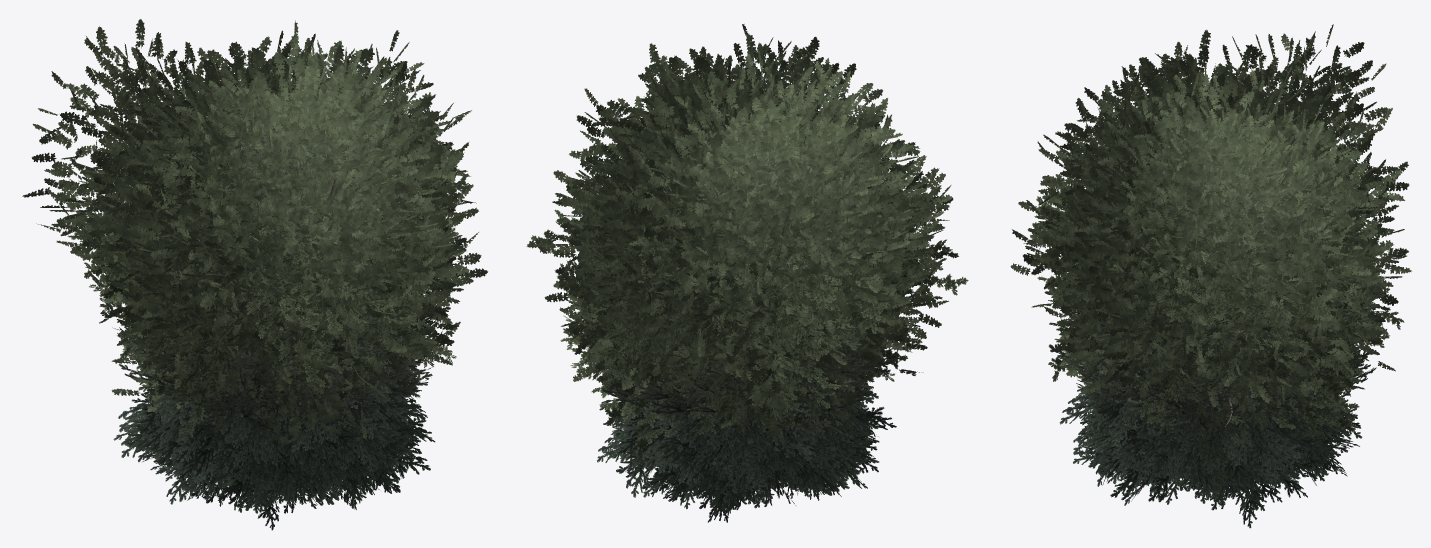
File: veg.street-trees.glb
3 views of the same model, side by side, from view 1: azimuth 30°, elevation 25°; view 2: azimuth 150°, elevation 25°; view 3: azimuth 270°, elevation 25° (orthographic). The views are drawn at different scales.
Parts seen in each view (by area): view 1: tree.maple.1:lod0, tree.maple.2:lod0, tree.maple.4:lod0, tree.oak.3:lod0, tree.maple.3:lod0, tree.spruce.2:lod0, tree.maple.7:lod0, tree.maple.6:lod0, tree.maple.8:lod0, tree.maple.5:lod0, tree.spruce.3:lod0, tree.spruce.6:lod0 (+15 smaller); view 2: tree.maple.1:lod0, tree.maple.7:lod0, tree.maple.2:lod0, tree.maple.8:lod0, tree.maple.6:lod0, tree.spruce.2:lod0, tree.oak.3:lod0, tree.maple.3:lod0, tree.spruce.6:lod0, tree.maple.5:lod0, tree.maple.4:lod0, tree.oak.1:lod0 (+16 smaller); view 3: tree.maple.1:lod0, tree.maple.5:lod0, tree.maple.2:lod0, tree.maple.4:lod0, tree.maple.7:lod0, tree.maple.3:lod0, tree.spruce.2:lod0, tree.maple.8:lod0, tree.oak.3:lod0, tree.ash.2:lod0, tree.spruce.1:lod0, tree.spruce.3:lod0 (+17 smaller).
Part boxes in pixels (bbox=[...]): tree.maple.1:lod0: bbox=[22, 19, 406, 404]; tree.maple.2:lod0: bbox=[105, 42, 473, 423]; tree.maple.4:lod0: bbox=[115, 68, 476, 437]; tree.oak.3:lod0: bbox=[69, 99, 469, 437]; tree.maple.3:lod0: bbox=[109, 69, 487, 403]; tree.spruce.2:lod0: bbox=[113, 111, 435, 530]; tree.maple.7:lod0: bbox=[91, 30, 478, 414]; tree.maple.6:lod0: bbox=[90, 62, 454, 418]; tree.maple.8:lod0: bbox=[85, 47, 465, 400]; tree.maple.5:lod0: bbox=[152, 58, 470, 445]; tree.spruce.3:lod0: bbox=[124, 131, 430, 508]; tree.spruce.6:lod0: bbox=[118, 148, 428, 513]; tree.maple.1:lod0: bbox=[564, 54, 953, 427]; tree.maple.7:lod0: bbox=[553, 61, 901, 434]; tree.maple.2:lod0: bbox=[566, 37, 919, 435]; tree.maple.8:lod0: bbox=[568, 98, 907, 451]; tree.maple.6:lod0: bbox=[619, 129, 949, 388]; tree.spruce.2:lod0: bbox=[597, 119, 896, 522]; tree.oak.3:lod0: bbox=[560, 104, 968, 405]; tree.maple.3:lod0: bbox=[595, 78, 923, 398]; tree.spruce.6:lod0: bbox=[610, 145, 873, 515]; tree.maple.5:lod0: bbox=[526, 118, 860, 441]; tree.maple.4:lod0: bbox=[594, 24, 920, 385]; tree.oak.1:lod0: bbox=[563, 153, 890, 459]; tree.maple.1:lod0: bbox=[1041, 24, 1411, 380]; tree.maple.5:lod0: bbox=[1044, 134, 1382, 428]; tree.maple.2:lod0: bbox=[1041, 41, 1385, 431]; tree.maple.4:lod0: bbox=[1018, 73, 1300, 431]; tree.maple.7:lod0: bbox=[1070, 29, 1372, 430]; tree.maple.3:lod0: bbox=[1010, 63, 1389, 439]; tree.spruce.2:lod0: bbox=[1059, 127, 1362, 528]; tree.maple.8:lod0: bbox=[1060, 71, 1382, 419]; tree.oak.3:lod0: bbox=[1031, 98, 1404, 421]; tree.ash.2:lod0: bbox=[1154, 118, 1384, 489]; tree.spruce.1:lod0: bbox=[1077, 211, 1359, 510]; tree.spruce.3:lod0: bbox=[1079, 161, 1344, 499].
Size of what is drawn, in the model's own units: 16.62 by 17.46 by 15.54.
3 materials, 3 textured.
